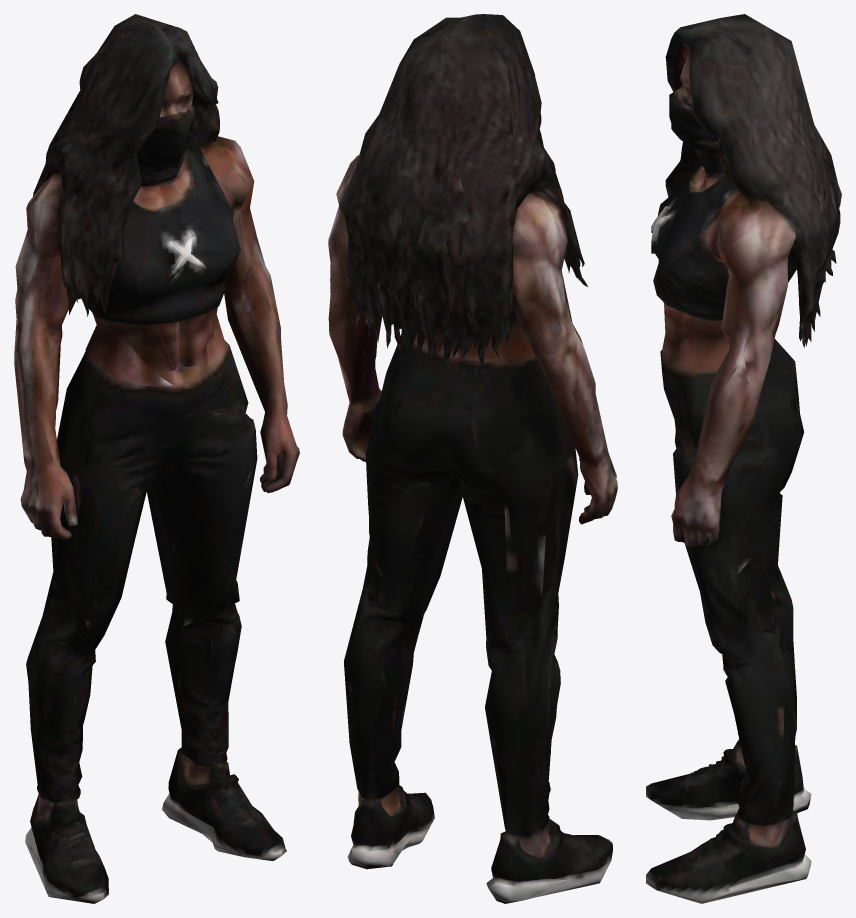
Rendered from TASHA-low.glb.
3 views of the same model, side by side, from view 1: azimuth 30°, elevation 25°; view 2: azimuth 150°, elevation 25°; view 3: azimuth 270°, elevation 25° (orthographic).
Parts seen in each view (by area): view 1: tripo_node_89761c1b-db90-4509-983c-672407cf68c2; view 2: tripo_node_89761c1b-db90-4509-983c-672407cf68c2; view 3: tripo_node_89761c1b-db90-4509-983c-672407cf68c2.
Part boxes in pixels (bbox=[...]): tripo_node_89761c1b-db90-4509-983c-672407cf68c2: bbox=[14, 14, 299, 903]; tripo_node_89761c1b-db90-4509-983c-672407cf68c2: bbox=[328, 14, 617, 903]; tripo_node_89761c1b-db90-4509-983c-672407cf68c2: bbox=[646, 14, 841, 903].
Bounding box in the file's own units: 0.3234 × 0.9777 × 0.2085.
1 material, 1 textured.
